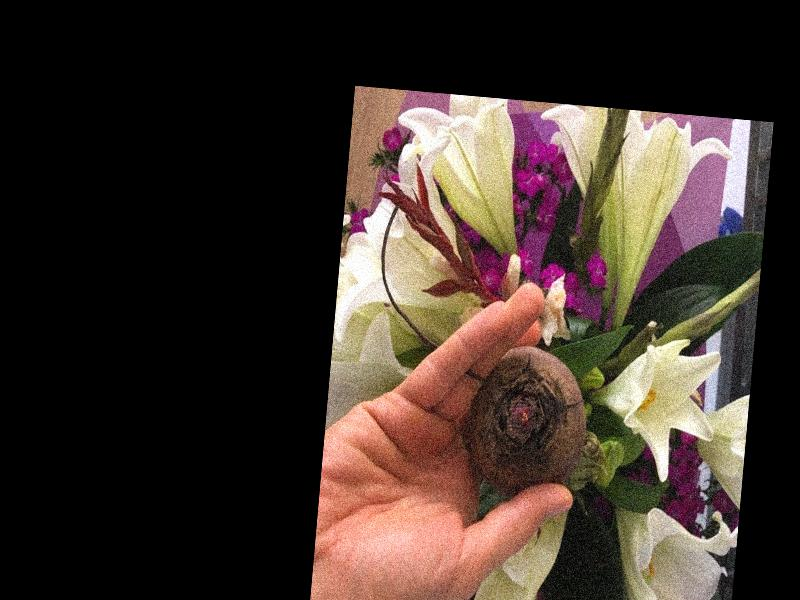Beet: (459, 339, 593, 499)
